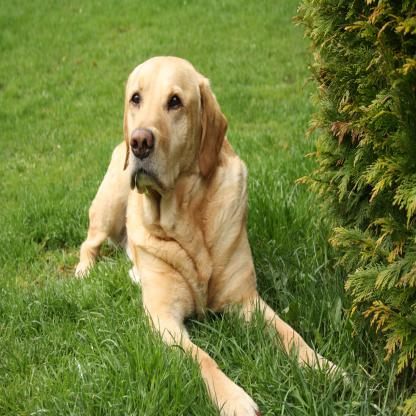Rotveler: (75, 52, 352, 414)
